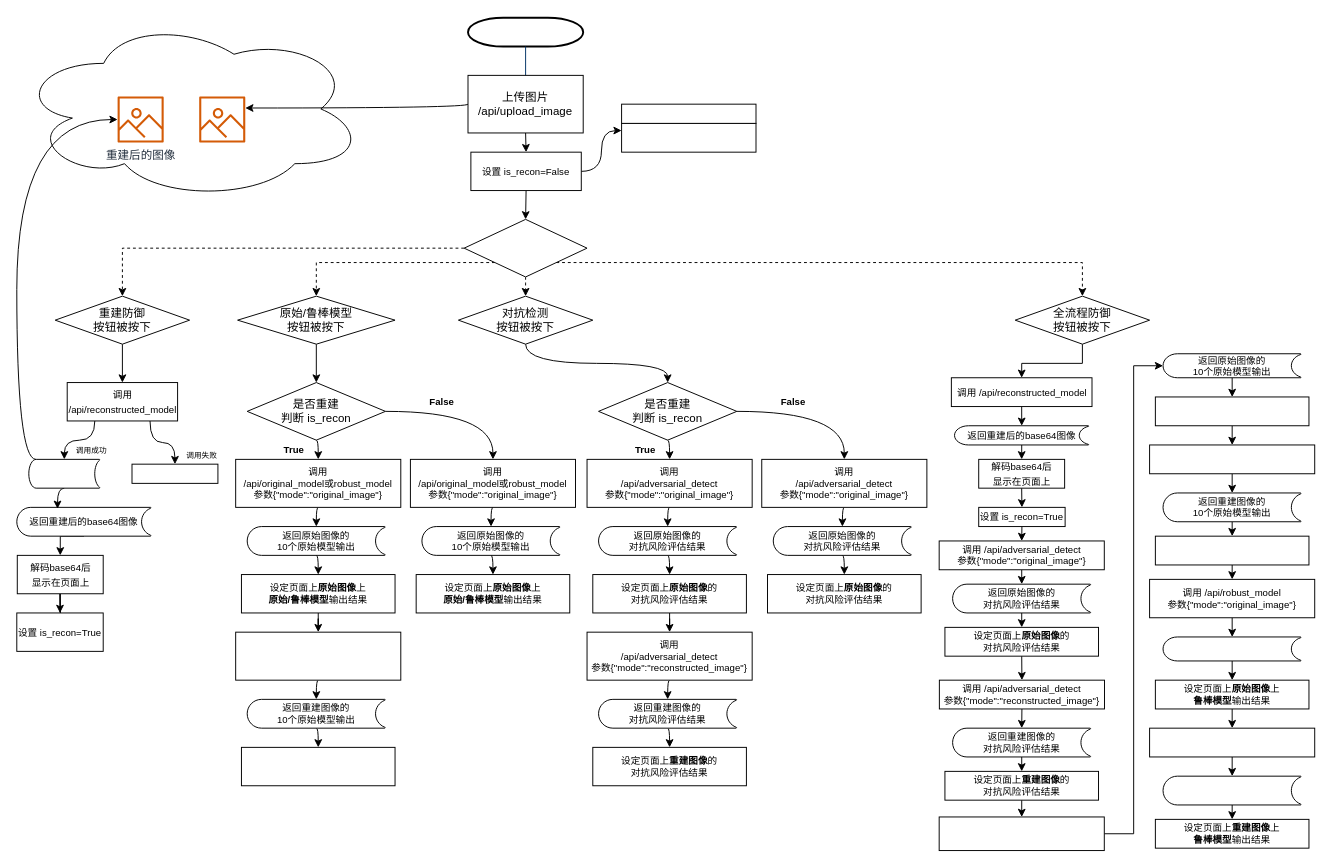
This 1332x867 diagram has some shape labels left out. Here are the shapes that lost their labels. From the top down, the centre of each, then its label:
(525,31): 开始
(222,119): 上传的图像
(688,113): const is_recon
(688,137): 前端：设定全局变量 is_recon 判断是否进行重建
(525,247): 等待按钮被按下
(1231,411): 设定页面上 原始图像 上 原始 模型 输出结果
(64,473): 重建后的 图像 保存在后端
(174,473): 返回中获取"Error"
(1232,459): 调用 /api/original_model 参数{"mode":" reconstructed _image"}
(1231,550): 设定页面上 重建图像 上 原始模型 输出结果
(318,655): 调用 /api/original_model或 robust_model 参数{"mode":" reconstructed _image"}
(1231,648): 返回原始图像的 10个鲁棒模型输出
(1232,742): 调用 robust_model 参数{"mode":" reconstructed _image"}
(317,766): 设定页面上 重建图像 上 原始/鲁棒模型 输出结果
(1231,790): 返回重建图像的 10个鲁棒模型输出
(1021,833): 调用 /api/original_model 参数{"mode":"original_image"}
